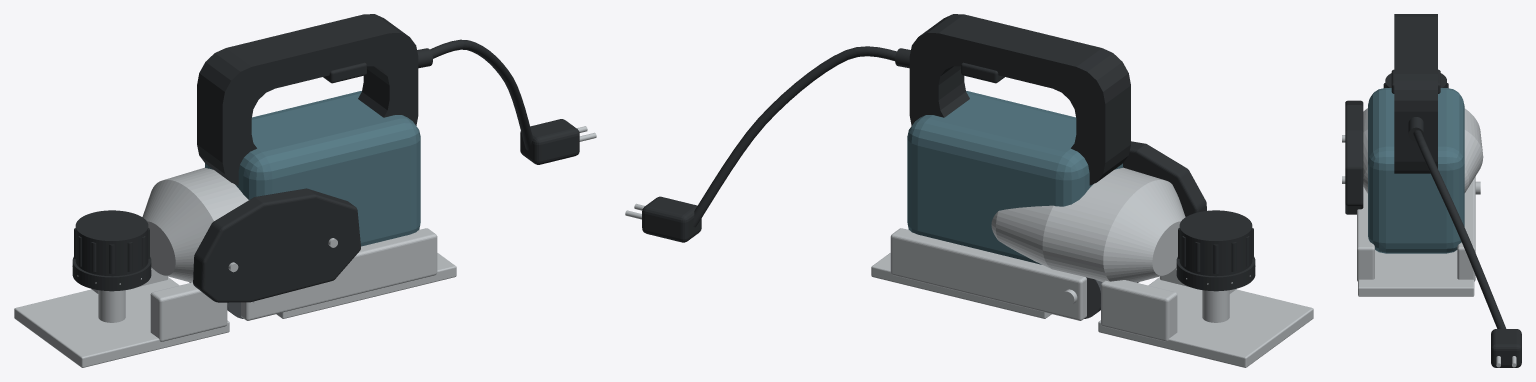
Rendered from full.glb.
The picture shows the model from 3 angles, left to right: view 1: azimuth 30°, elevation 25°; view 2: azimuth 150°, elevation 25°; view 3: azimuth 270°, elevation 25°; orthographic projection. The views are drawn at different scales.
Visible parts, largest first — view 1: Rear motor housing, Open arched rear D handle, Asymmetric belt cover, Front adjustable sole, Curved cast cutter housing, Sole support -0.039, Ribbed round depth knob, Front sole support -0.039, Generic complete plug, Complete generic cord, Rear fixed sole, Depth setting collar (+2 smaller); view 2: Rear motor housing, Open arched rear D handle, Curved cast cutter housing, Sole support 0.039, Front adjustable sole, Ribbed round depth knob, Front sole support 0.039, Complete generic cord, Asymmetric belt cover, Generic complete plug, Rear fixed sole, Depth setting collar (+1 smaller); view 3: Rear motor housing, Open arched rear D handle, Rear fixed sole, Asymmetric belt cover, Complete generic cord, Curved cast cutter housing, Sole support 0.039, Sole support -0.039, Generic complete plug, Rear cord strain relief, Ribbed round depth knob, Trigger under rear grip.
Part boxes in pixels (x1,y1,x2,y2): Rear motor housing: (205, 91, 420, 246); Open arched rear D handle: (197, 14, 418, 185); Asymmetric belt cover: (193, 188, 360, 302); Front adjustable sole: (14, 277, 229, 367); Curved cast cutter housing: (142, 167, 248, 282); Sole support -0.039: (241, 228, 437, 320); Ribbed round depth knob: (75, 210, 148, 276); Front sole support -0.039: (150, 282, 227, 341); Generic complete plug: (520, 119, 579, 164); Complete generic cord: (430, 39, 532, 150); Rear fixed sole: (276, 253, 456, 318); Depth setting collar: (72, 257, 151, 291); Rear motor housing: (907, 91, 1122, 264); Open arched rear D handle: (909, 14, 1130, 185); Curved cast cutter housing: (991, 167, 1185, 282); Sole support 0.039: (890, 228, 1086, 320); Front adjustable sole: (1098, 277, 1313, 367); Ribbed round depth knob: (1179, 210, 1252, 276); Front sole support 0.039: (1101, 280, 1177, 341); Complete generic cord: (693, 46, 896, 227); Asymmetric belt cover: (1123, 141, 1206, 216); Generic complete plug: (642, 196, 701, 242); Rear fixed sole: (871, 253, 1051, 318); Depth setting collar: (1176, 257, 1255, 291); Rear motor housing: (1368, 88, 1464, 253); Open arched rear D handle: (1394, 14, 1437, 173); Rear fixed sole: (1358, 250, 1474, 296); Asymmetric belt cover: (1345, 100, 1363, 214); Complete generic cord: (1413, 130, 1506, 328); Curved cast cutter housing: (1363, 108, 1483, 193); Sole support 0.039: (1457, 176, 1475, 281); Sole support -0.039: (1357, 187, 1374, 281); Generic complete plug: (1491, 329, 1521, 367); Rear cord strain relief: (1408, 117, 1423, 141); Ribbed round depth knob: (1385, 73, 1446, 87); Trigger under rear grip: (1391, 69, 1440, 93).
Size of the model in its own units: 0.4539 by 0.1745 by 0.1395.
